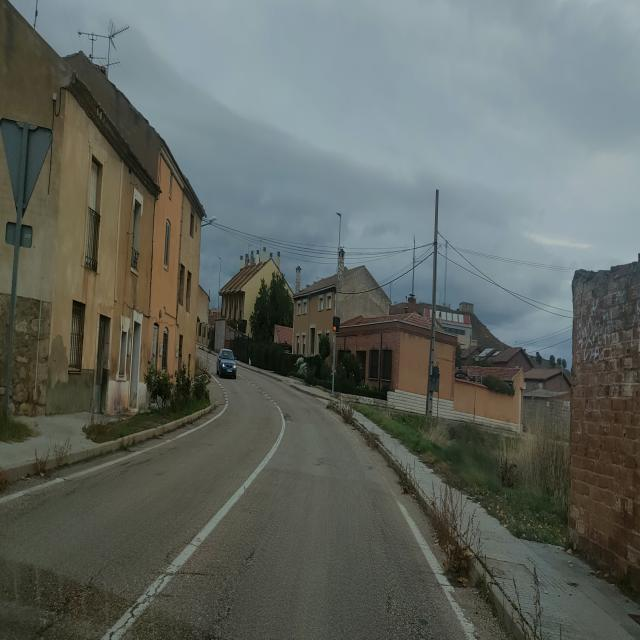Poth-hole: (124, 540, 259, 640), (380, 601, 436, 640), (310, 446, 329, 474), (278, 406, 292, 428)
